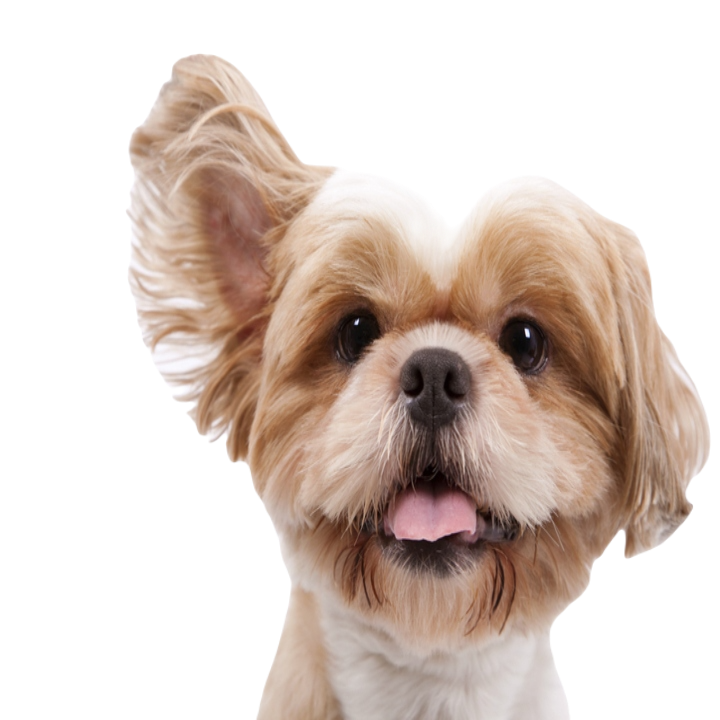Dog: (103, 45, 710, 719)
